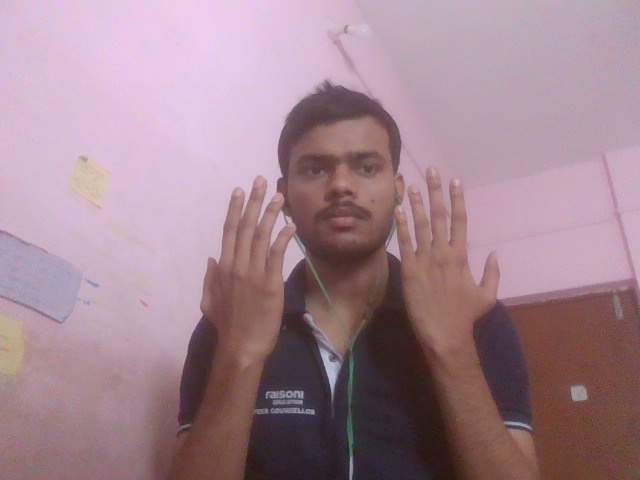allDone: (141, 149, 550, 351)
